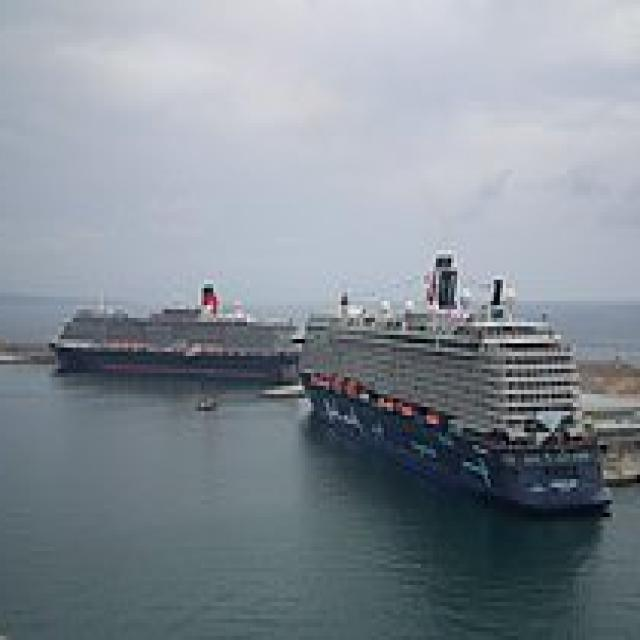Cruise: (292, 241, 618, 513), (49, 276, 308, 382)
